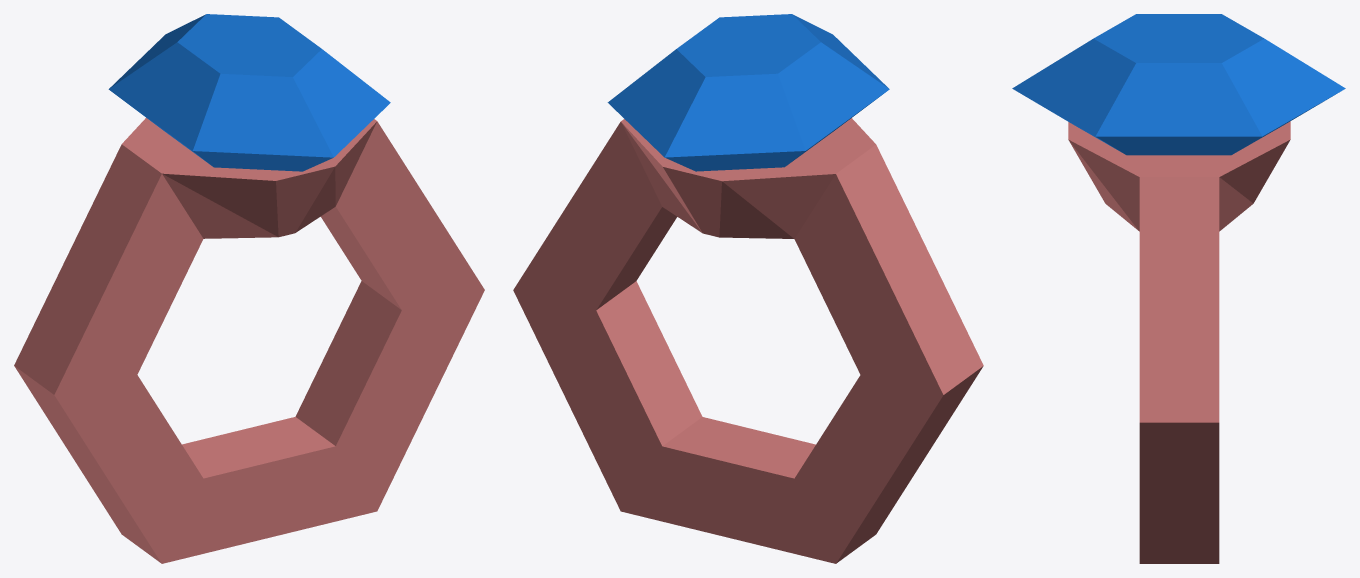
Rendered from SM_ring_4.fbx.
3 views of the same model, side by side, from view 1: azimuth 30°, elevation 25°; view 2: azimuth 150°, elevation 25°; view 3: azimuth 270°, elevation 25° (orthographic).
Visible parts, largest first — view 1: Tube_7; view 2: Tube_7; view 3: Tube_7.
Boxes of the visible parts, x1,y1,x2,y2 form: Tube_7: (14,14,484,563); Tube_7: (513,14,983,563); Tube_7: (1012,14,1345,563).
Bounding box in the file's own units: 3.39 × 3.59 × 2.29.
